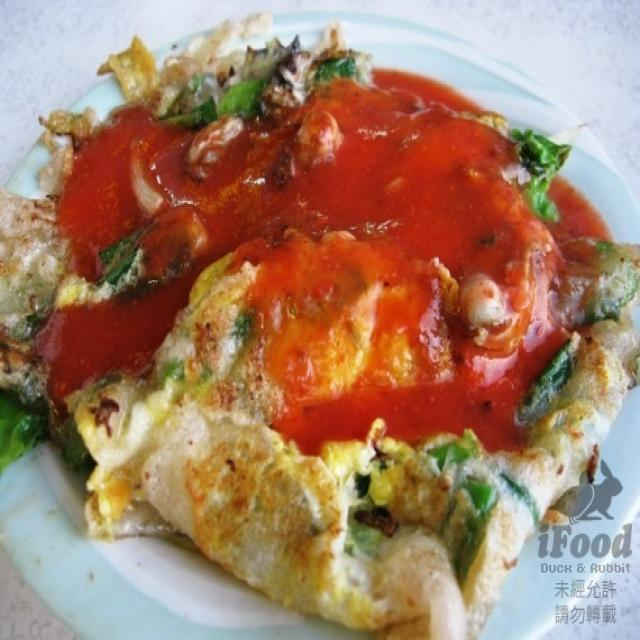熟制海鲜: (23, 21, 621, 626)
